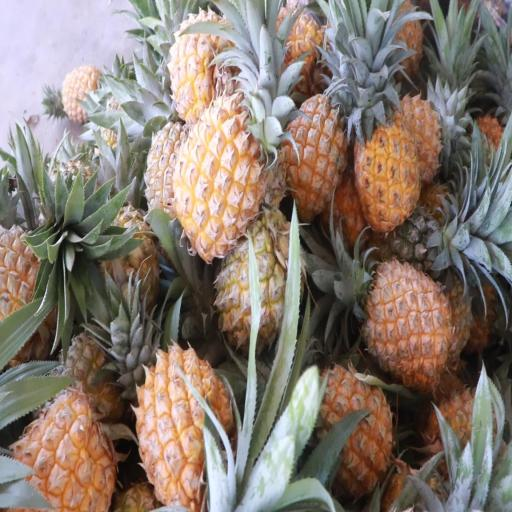------------------------------: (218, 229, 302, 359)
Pineapple - v8 v1: (137, 345, 230, 505), (5, 394, 117, 511), (178, 102, 264, 250), (311, 369, 393, 495), (363, 264, 451, 379), (279, 92, 349, 214), (353, 117, 419, 226), (171, 14, 237, 118)
